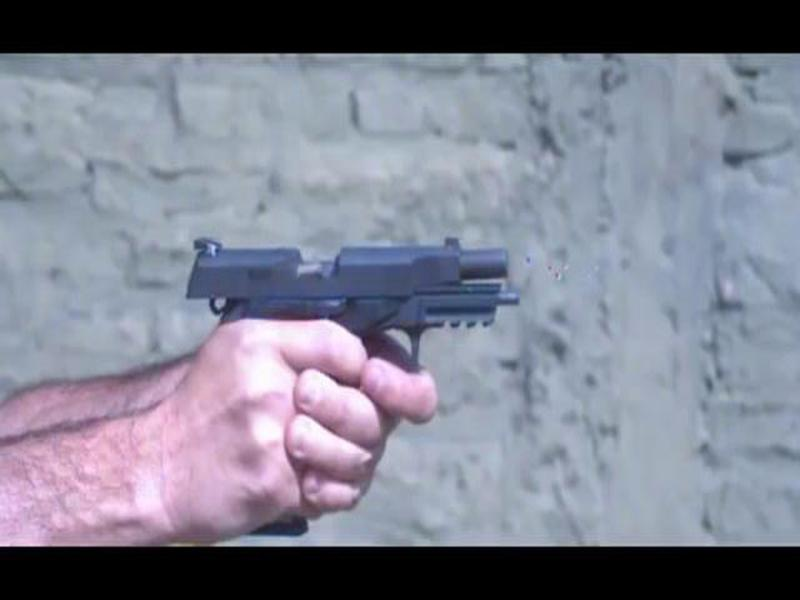Pistola: (168, 211, 522, 379)
